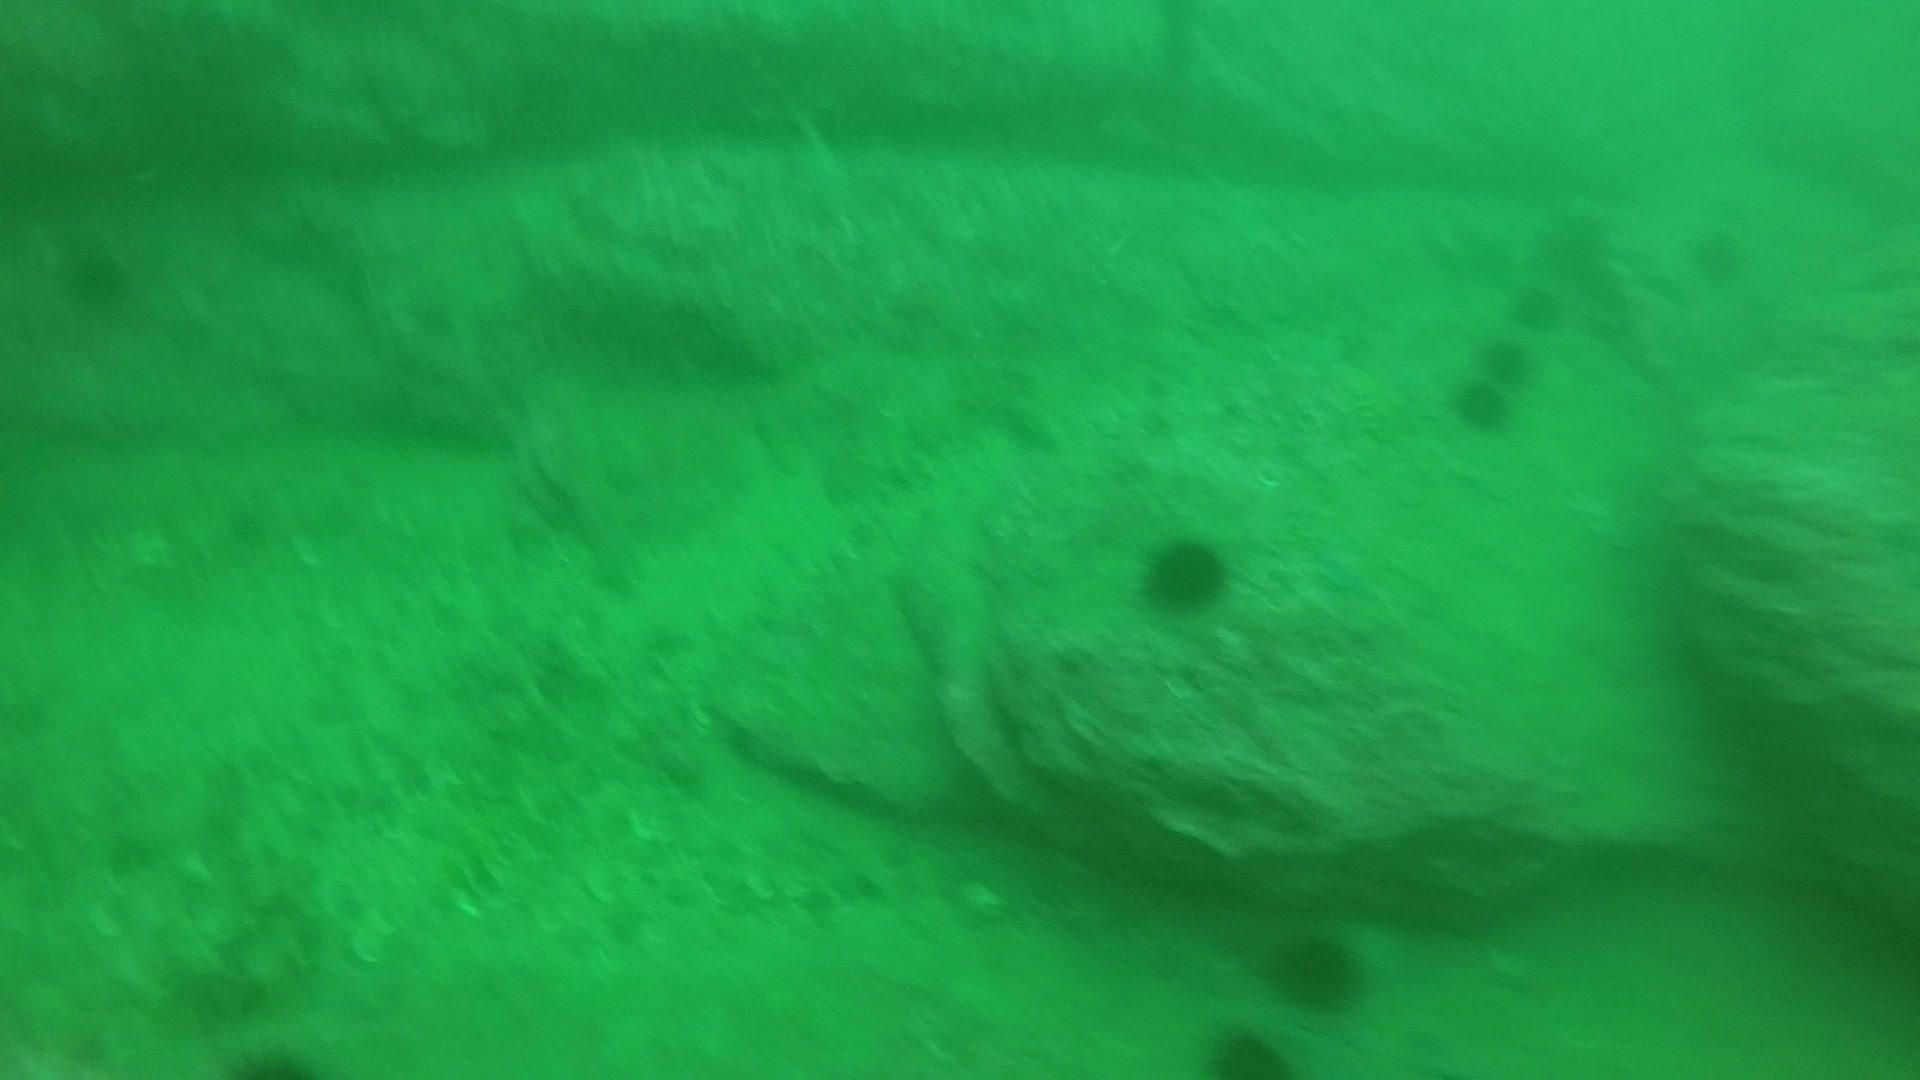echinus: (1261, 923, 1370, 1017), (1135, 527, 1236, 618), (55, 237, 142, 322), (1530, 204, 1618, 285), (1197, 1019, 1298, 1080), (1683, 220, 1753, 287), (1469, 330, 1543, 385), (1445, 376, 1507, 438), (1505, 277, 1567, 335)
